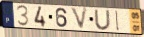3: (16, 4, 30, 27)
4: (33, 5, 48, 28)
6: (55, 7, 69, 28)
I: (115, 10, 120, 32)
U: (93, 9, 112, 31)
V: (70, 6, 90, 32)
